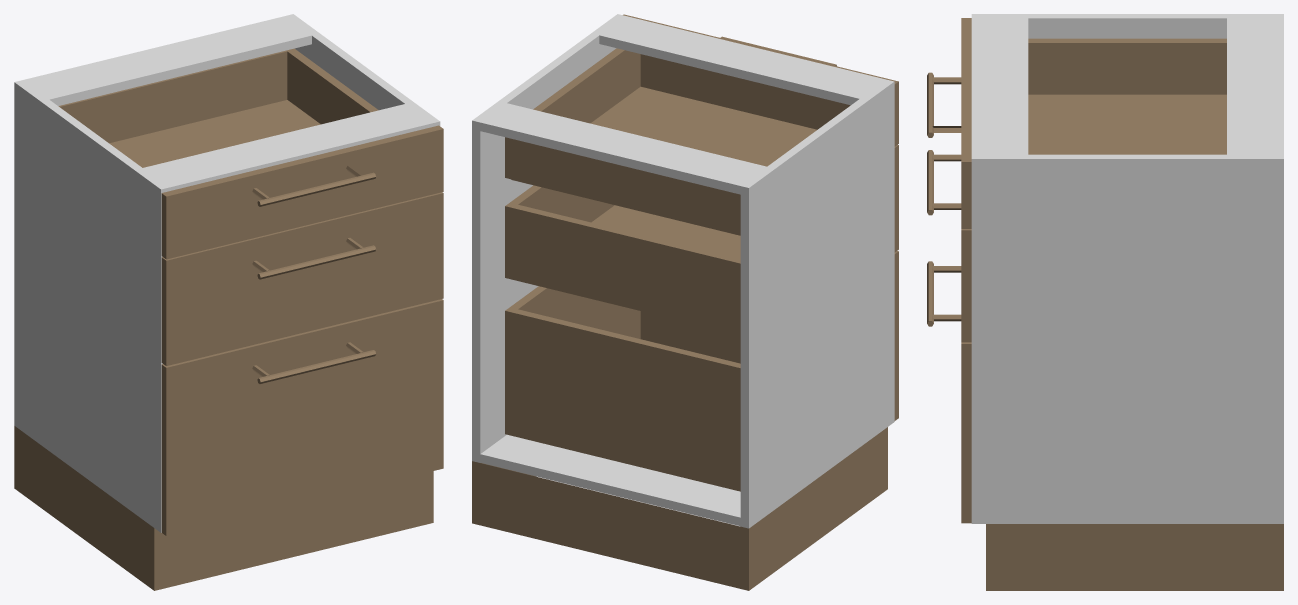
3 views of the same model, side by side, from view 1: azimuth 30°, elevation 25°; view 2: azimuth 150°, elevation 25°; view 3: azimuth 270°, elevation 25° (orthographic). The views are drawn at different scales.
Visible parts, largest first — view 1: user-library-drawers; view 2: user-library-drawers; view 3: user-library-drawers.
Part boxes in pixels (bbox=[...]): user-library-drawers: bbox=[14, 14, 443, 590]; user-library-drawers: bbox=[472, 14, 898, 590]; user-library-drawers: bbox=[927, 14, 1283, 590].
Size of the model in its own units: 0.719 by 1 by 0.7483.
